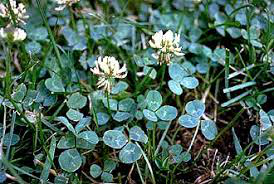clover: (1, 2, 269, 181)
